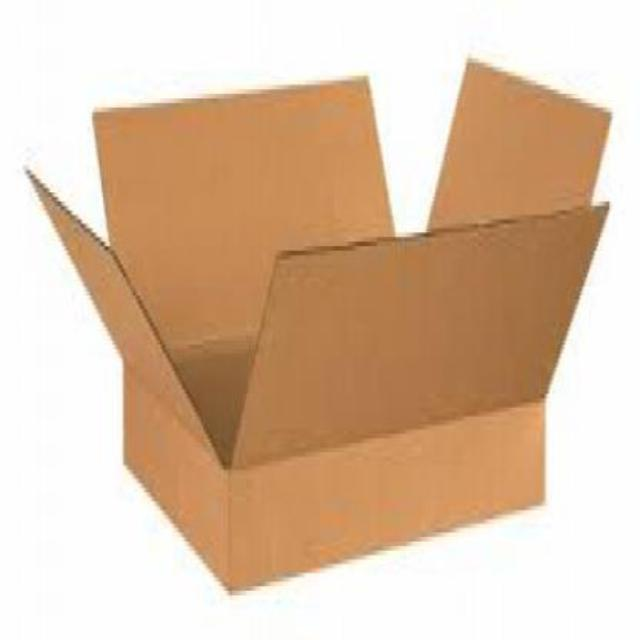cardboard_box: (20, 50, 608, 592)
